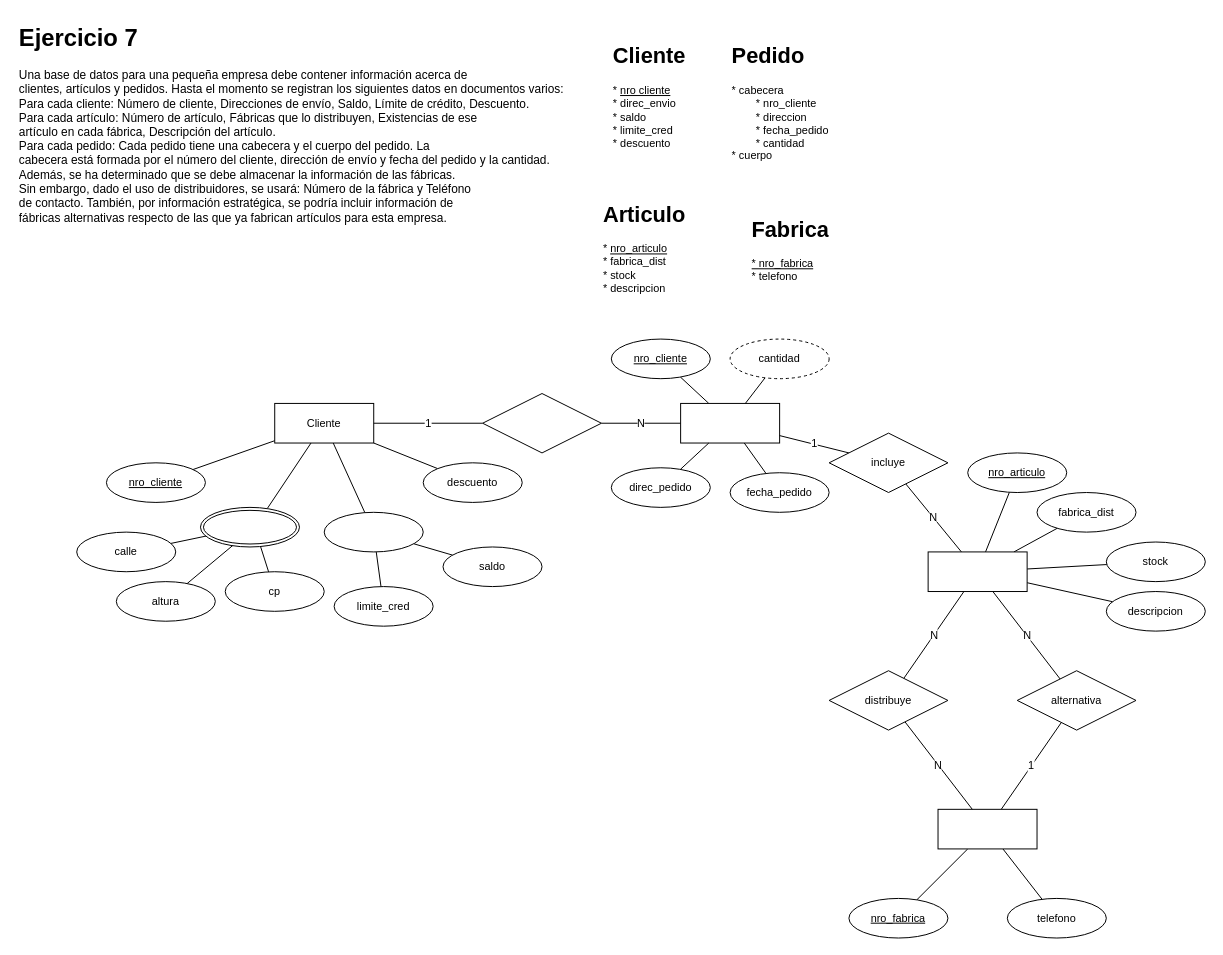
Image size: 1223x955. Some labels were removed from this diagram. Each missing label, with the centre of its shape:
"Articulo" belongs at (x=977, y=571).
"direccion" belongs at (x=249, y=526).
"estado_bancario" belongs at (x=373, y=531).
"Fabrica" belongs at (x=987, y=828).
"Pedido" belongs at (x=730, y=422).
"realiza" belongs at (x=541, y=423).
